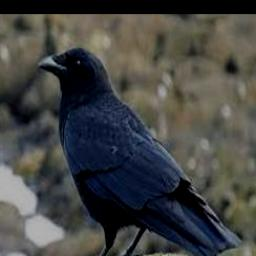Crow: (40, 46, 242, 256)
